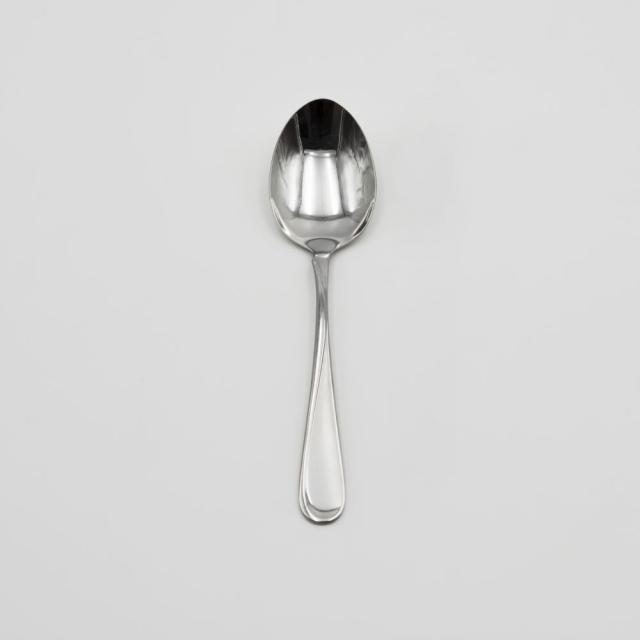spoon: (255, 81, 402, 558)
